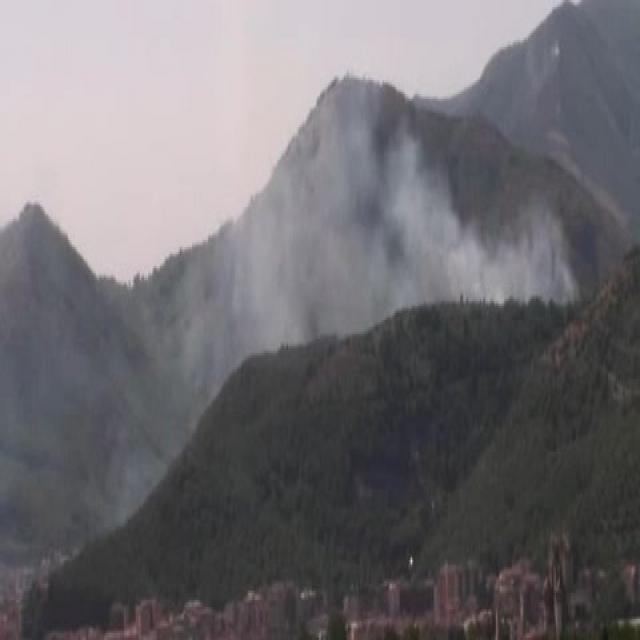smoke: (323, 92, 515, 312)
